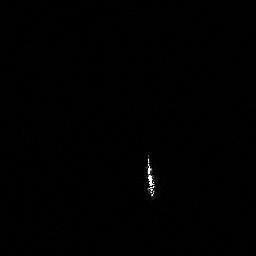ship: (135, 153, 164, 203)
